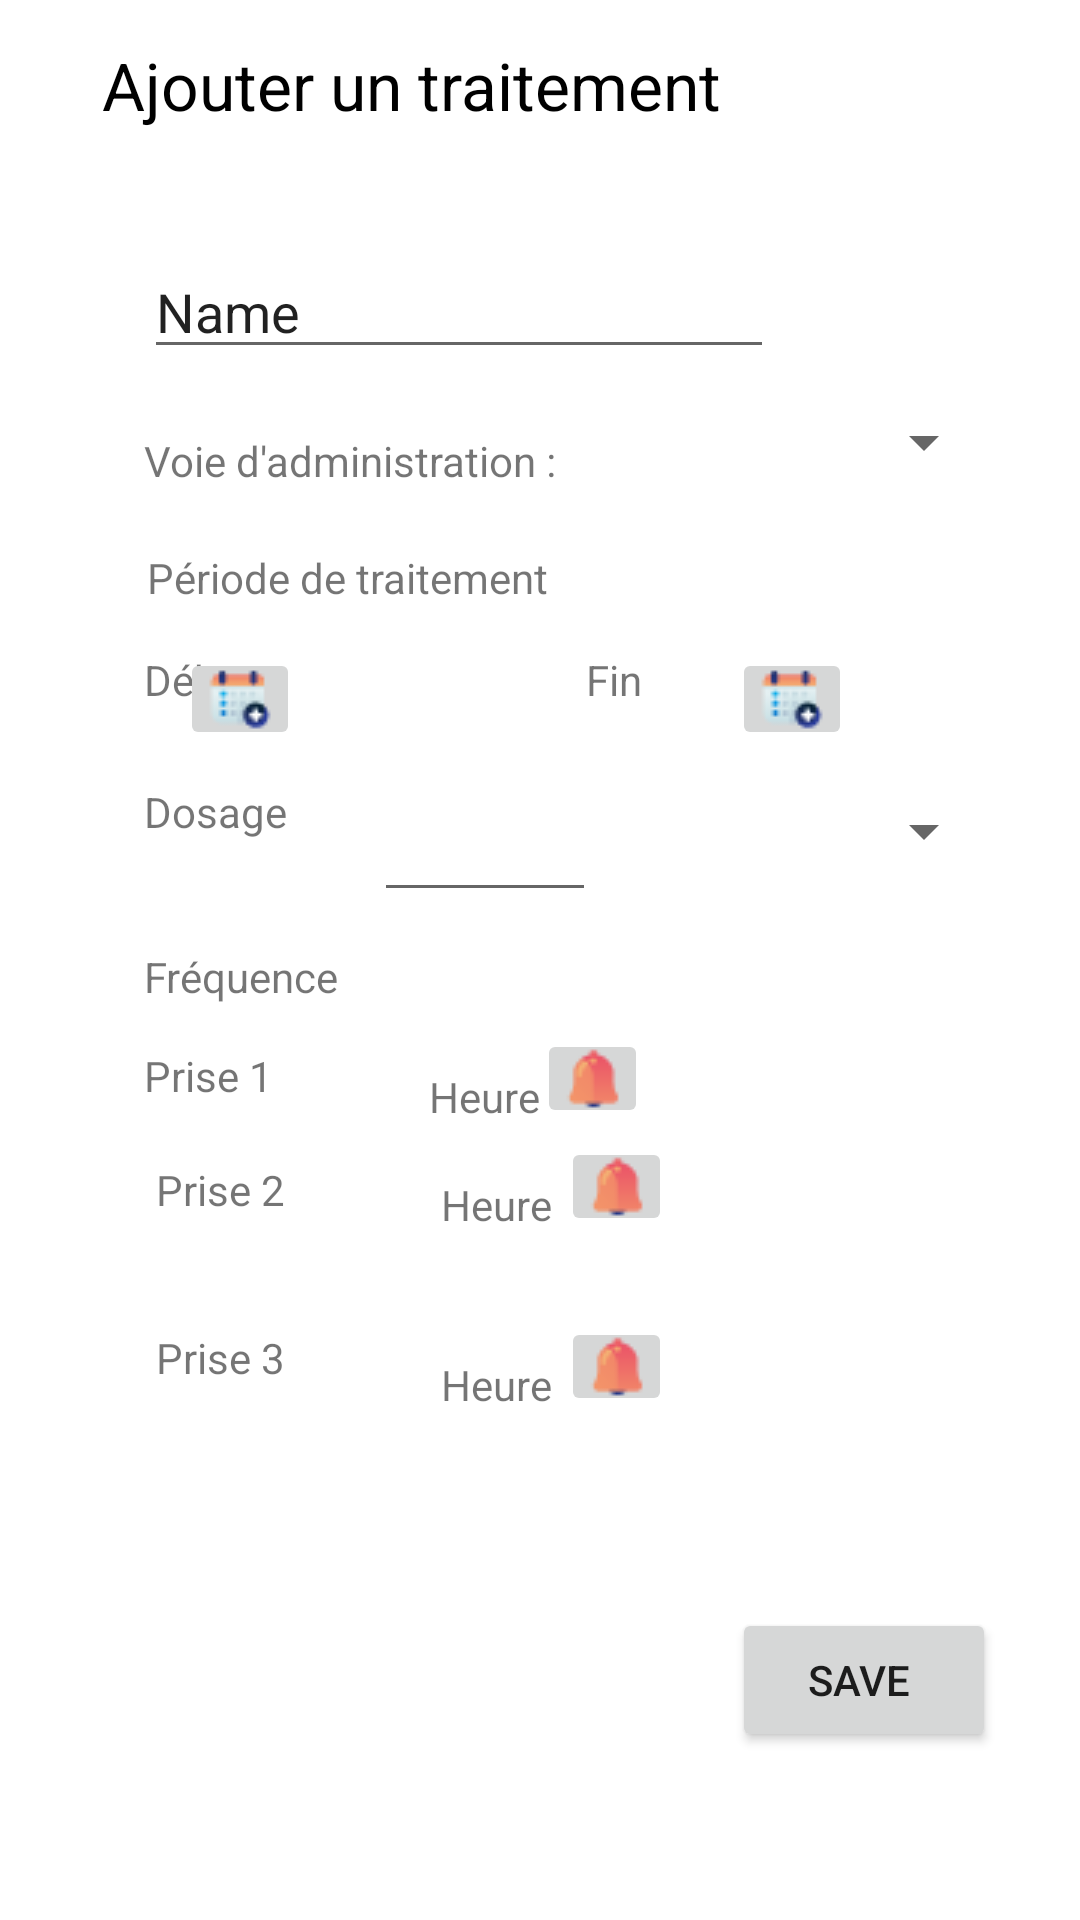

Point at icon controls on the screen. Image size 1080x1920, points as point (x, y).
add create date appointment: point (234, 698), point (792, 699)
